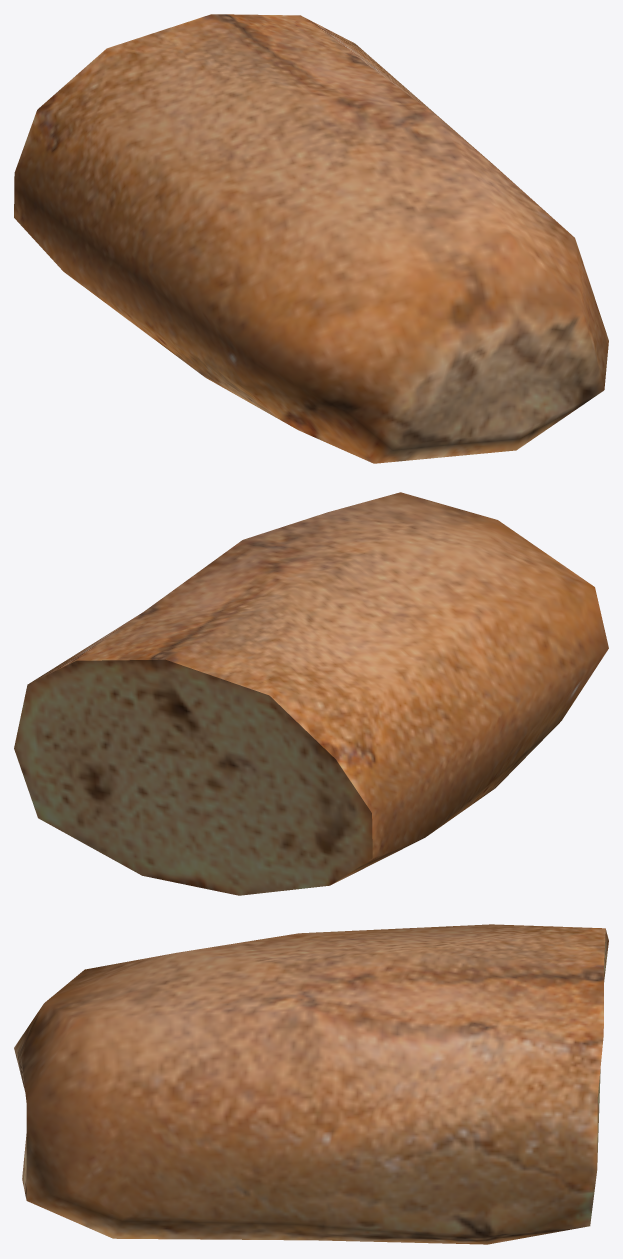
The model's file is camp_bread_02.fbx.
3 views of the same model, one above another, from view 1: azimuth 30°, elevation 25°; view 2: azimuth 150°, elevation 25°; view 3: azimuth 270°, elevation 25° (orthographic).
Parts seen in each view (by area): view 1: camp_bread_02; view 2: camp_bread_02; view 3: camp_bread_02.
Boxes of the visible parts, box(x1,y1,x2,y2) form: camp_bread_02: box(14, 14, 608, 463); camp_bread_02: box(14, 492, 608, 895); camp_bread_02: box(14, 924, 608, 1244).
Size of the model in its own units: 19.18 by 11.81 by 27.58.
